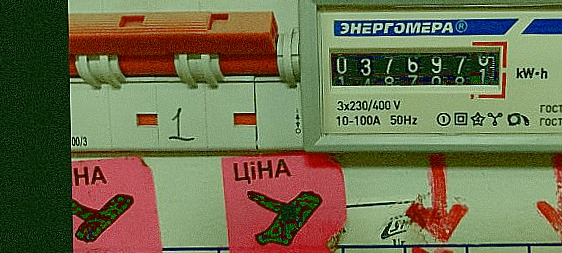0: (334, 54, 348, 74)
1: (476, 66, 488, 84)
3: (358, 55, 372, 75)
6: (405, 51, 419, 72)
7: (381, 53, 395, 74), (453, 52, 466, 74)
9: (429, 53, 442, 74)
screen: (321, 35, 512, 102)
